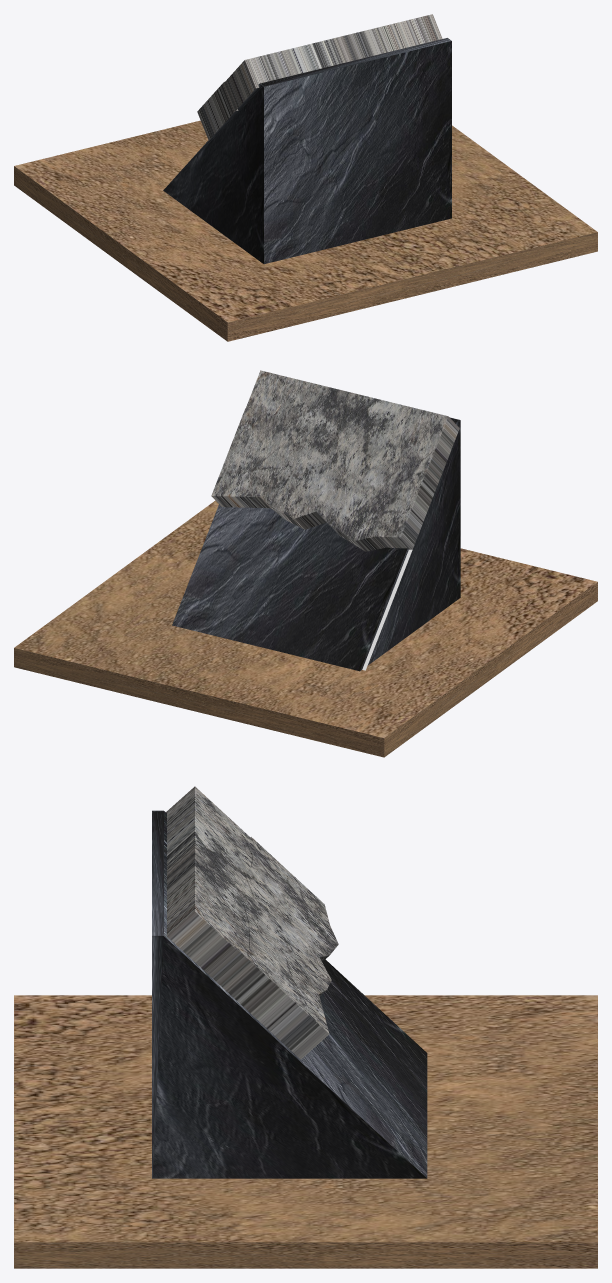
File: 岩层蠕动.gltf
3 views of the same model, one above another, from view 1: azimuth 30°, elevation 25°; view 2: azimuth 150°, elevation 25°; view 3: azimuth 270°, elevation 25° (orthographic). The views are drawn at different scales.
Parts seen in each view (by area): view 1: node_Cube_-88718, node_Box001_-88714, node_obj_-88712; view 2: node_Cube_-88718, node_Box001_-88714, node_obj_-88712; view 3: node_Cube_-88718, node_Box001_-88714, node_obj_-88712.
Boxes of the visible parts, x1=… form: node_Cube_-88718: x1=14, y1=120, x2=597, y2=341; node_Box001_-88714: x1=163, y1=38, x2=451, y2=264; node_obj_-88712: x1=197, y1=14, x2=442, y2=140; node_Cube_-88718: x1=14, y1=500, x2=597, y2=757; node_Box001_-88714: x1=172, y1=417, x2=460, y2=671; node_obj_-88712: x1=211, y1=370, x2=459, y2=670; node_Cube_-88718: x1=14, y1=995, x2=597, y2=1268; node_Box001_-88714: x1=152, y1=810, x2=427, y2=1178; node_obj_-88712: x1=166, y1=786, x2=338, y2=1059.
Size of the model in its own units: 2 by 1.1 by 2.
